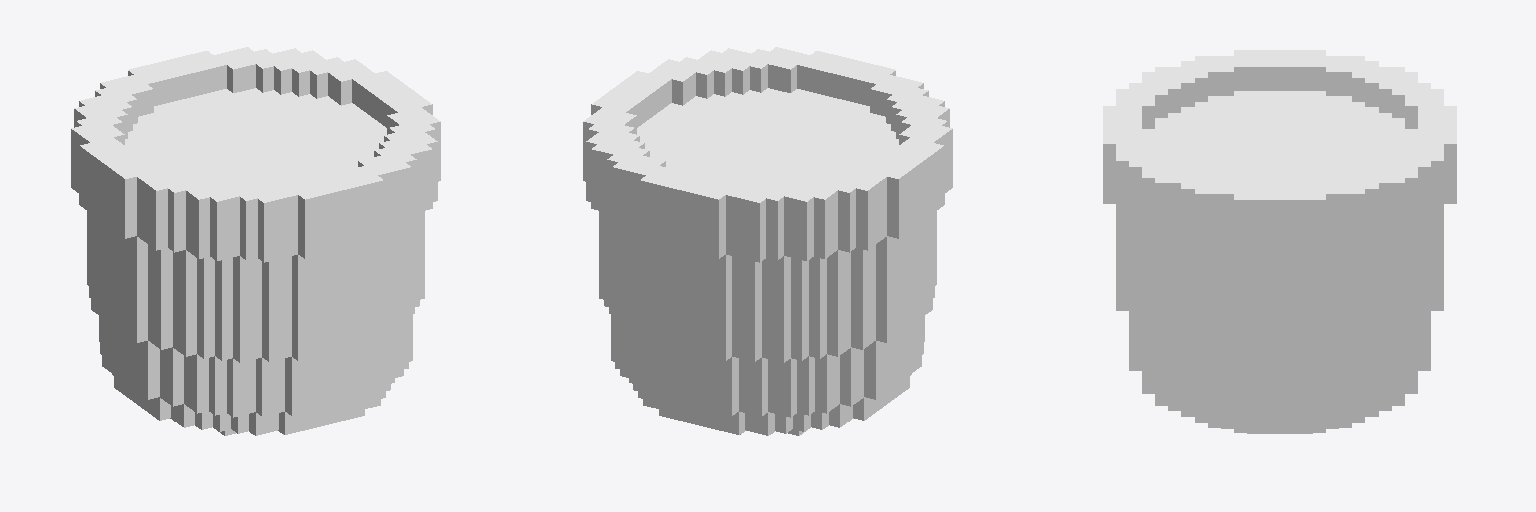
Rendered from bucket.obj.
3 renders of one model, left to right at view 1: azimuth 30°, elevation 25°; view 2: azimuth 150°, elevation 25°; view 3: azimuth 270°, elevation 25°, orthographic.
Bounding box in the file's own units: 27 × 22 × 27.